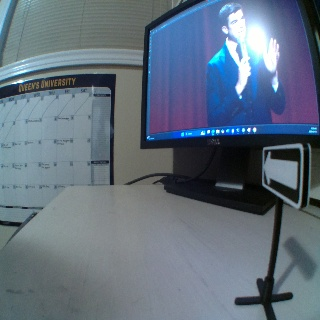sign_oneway_left: (261, 145, 308, 206)
